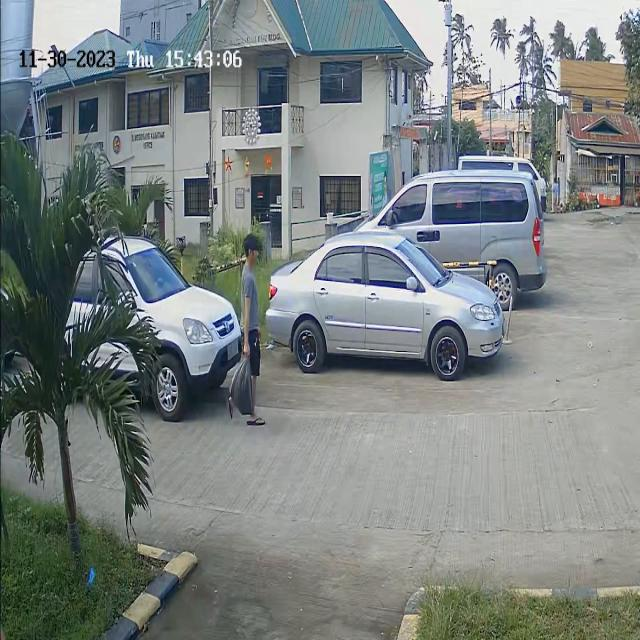garbage: (229, 351, 258, 421)
person: (238, 234, 270, 329)
